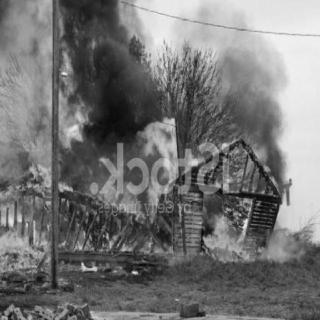Fire: (2, 12, 280, 280)
Smoke: (83, 41, 187, 178)
